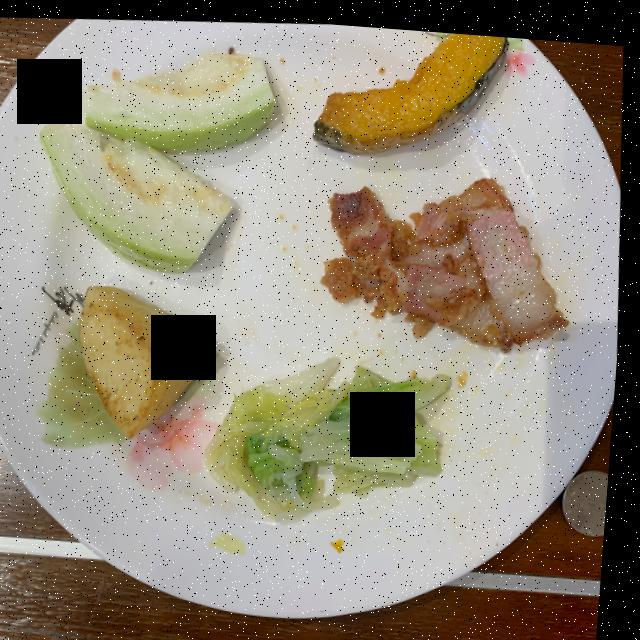cabbage: (211, 352, 456, 515)
coin: (570, 460, 615, 526)
fried potato: (85, 284, 220, 435)
guava -sliced-: (43, 50, 276, 270)
pumpkin: (315, 26, 507, 148)
red grilled pork: (326, 170, 573, 343)
